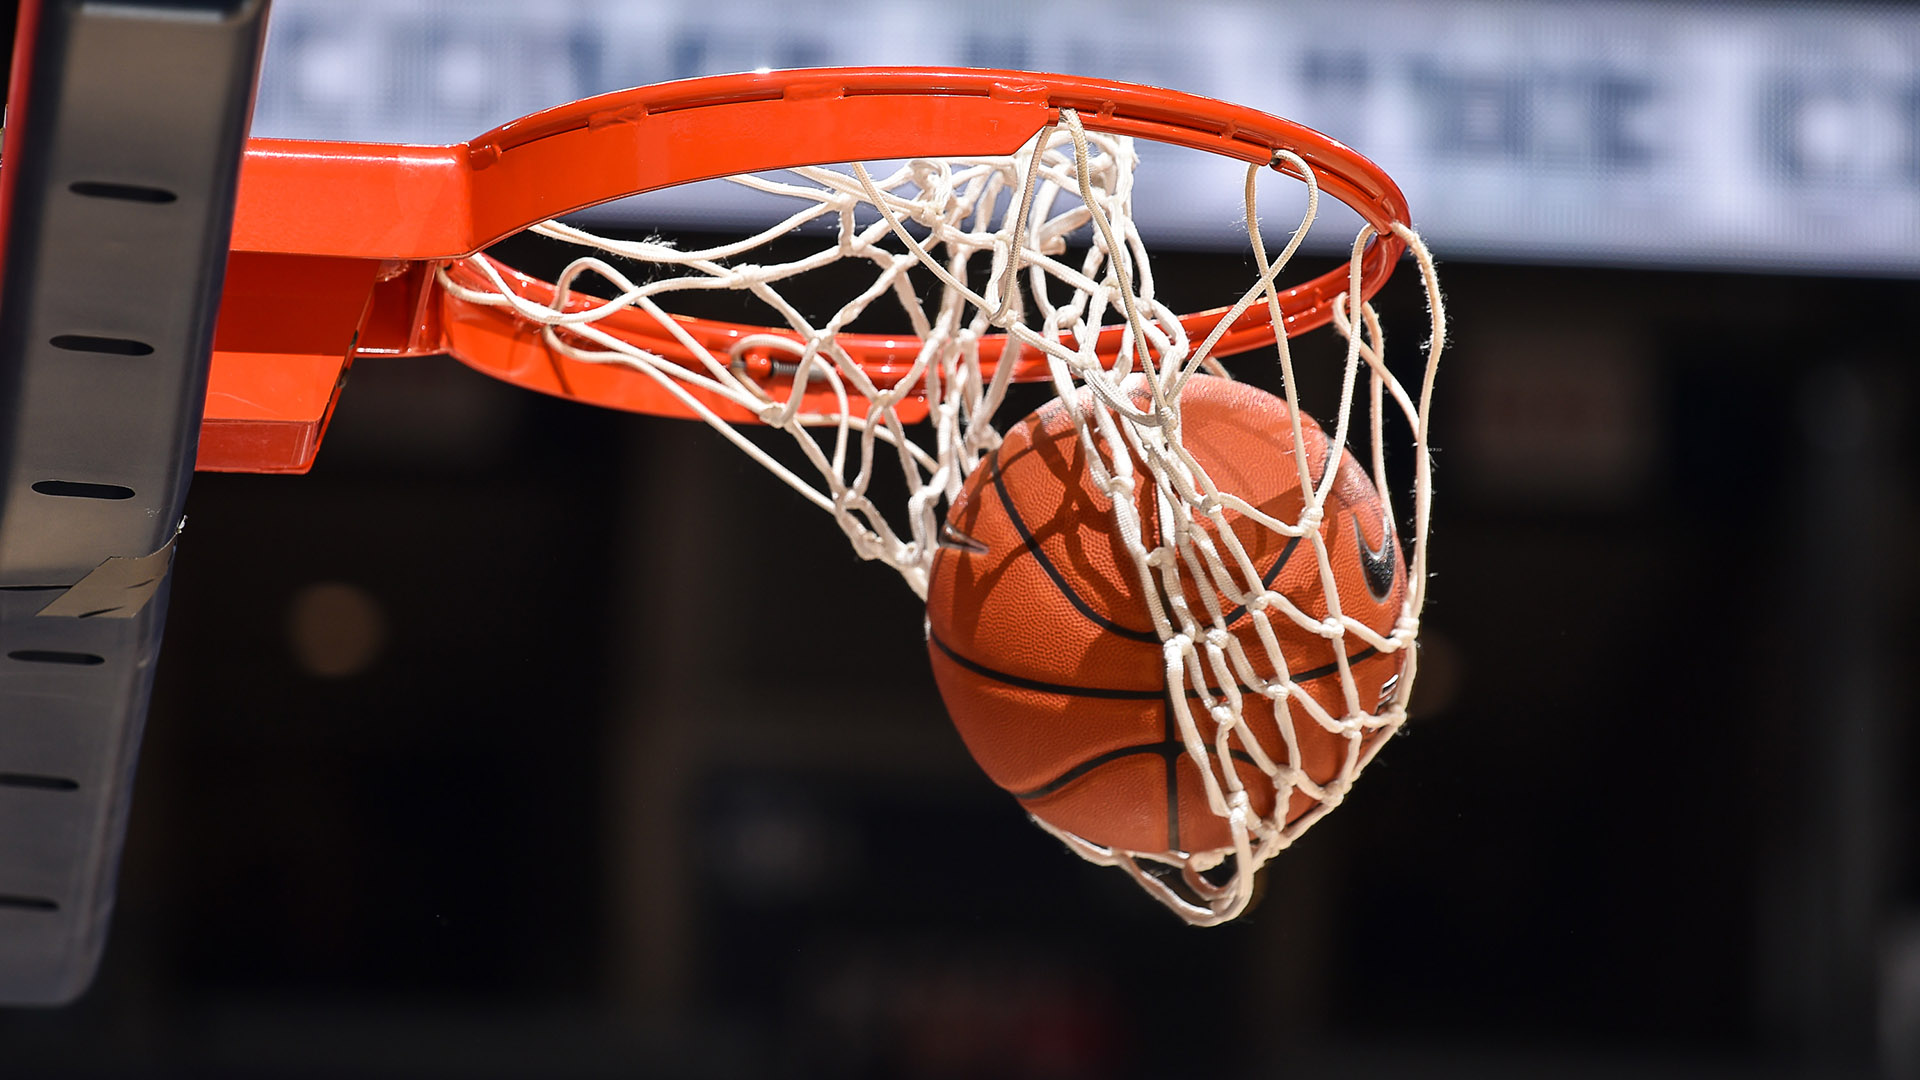MadeBasket: (438, 66, 1447, 928)
